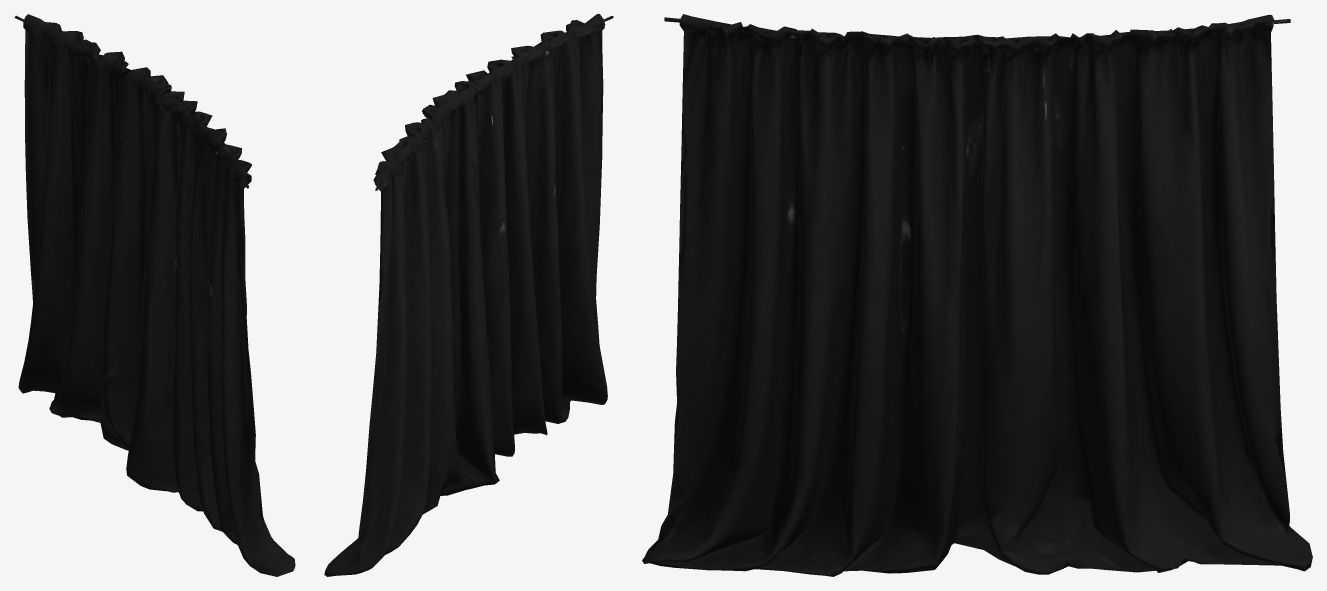
Rendered from black_theater_curtain_3d_model.fbx.
3 views of the same model, side by side, from view 1: azimuth 30°, elevation 25°; view 2: azimuth 150°, elevation 25°; view 3: azimuth 270°, elevation 25° (orthographic). The views are drawn at different scales.
Parts seen in each view (by area): view 1: tripo_node_e5b48048; view 2: tripo_node_e5b48048; view 3: tripo_node_e5b48048.
Part boxes in pixels (<box>): tripo_node_e5b48048: <box>14,14,295,576</box>; tripo_node_e5b48048: <box>324,14,613,576</box>; tripo_node_e5b48048: <box>642,14,1312,576</box>.
Size of the model in its own units: 0.138 by 0.859 by 0.9807.
